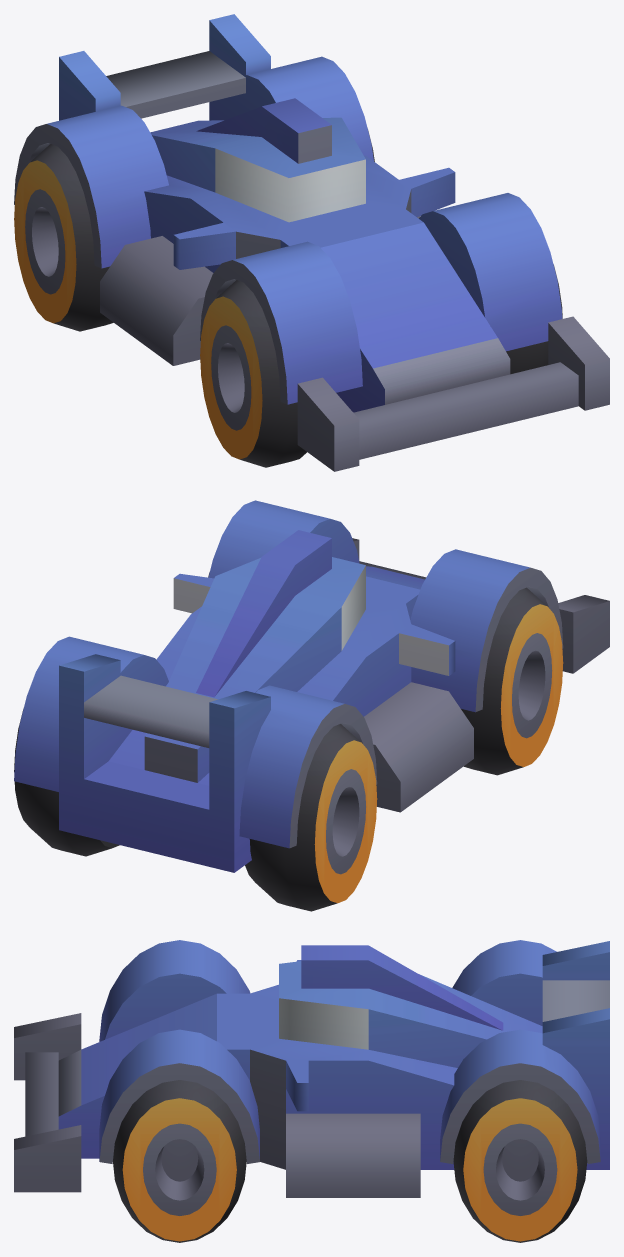
File: car_race_future.glb
3 renders of one model, top to bottom at view 1: azimuth 30°, elevation 25°; view 2: azimuth 150°, elevation 25°; view 3: azimuth 270°, elevation 25°, orthographic. The views are drawn at different scales.
Visible parts, largest first — view 1: body; view 2: body; view 3: body.
Boxes of the visible parts, box(x1,y1,x2,y2) form: body: box(14, 14, 609, 471); body: box(14, 500, 609, 911); body: box(14, 940, 609, 1242).
Size of the model in its own units: 1.6 by 1.3 by 3.
1 material, 1 textured.
